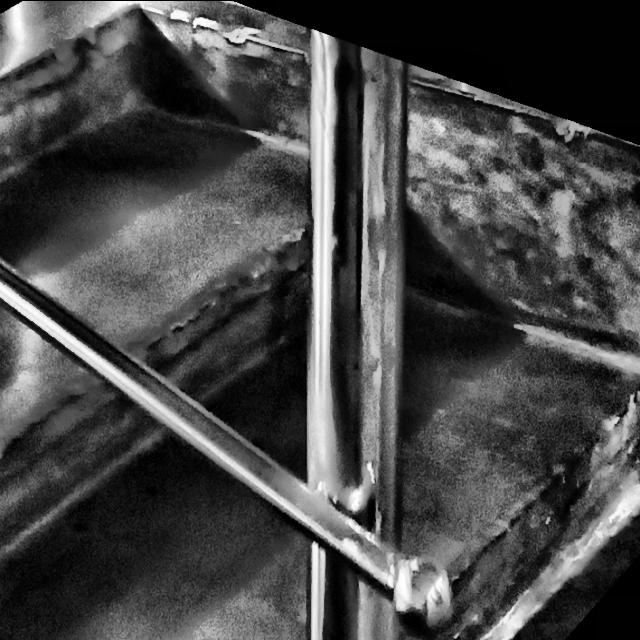stairs: (0, 1, 640, 640)
